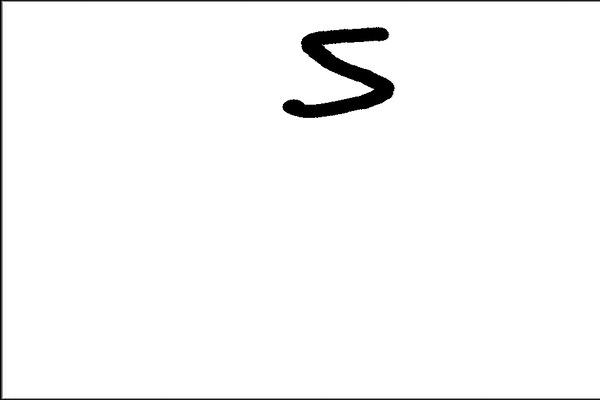S: (276, 22, 399, 122)
